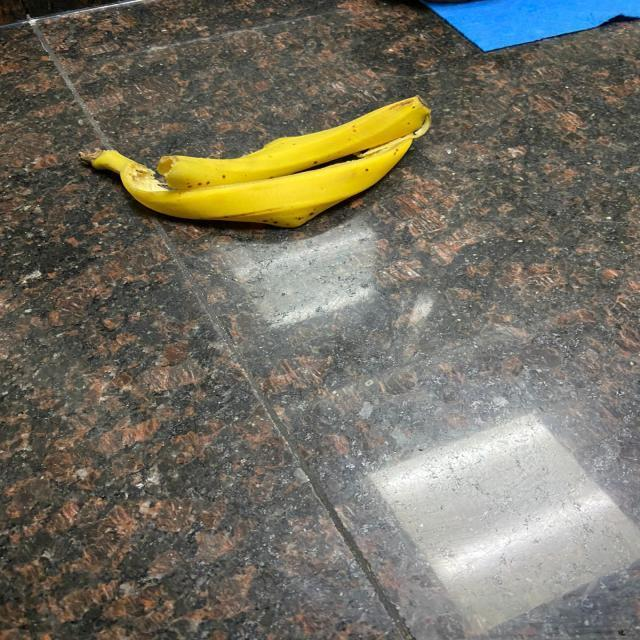banana-peel: (77, 93, 432, 228)
